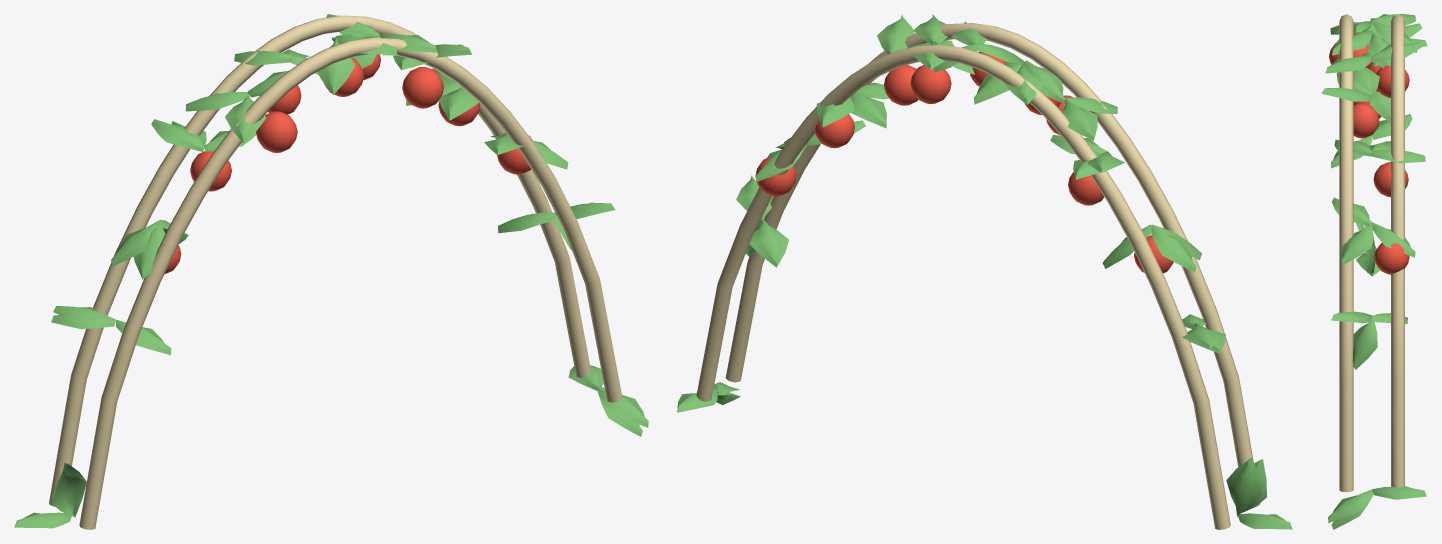
File: tomatenbogen.glb
3 views of the same model, side by side, from view 1: azimuth 30°, elevation 25°; view 2: azimuth 150°, elevation 25°; view 3: azimuth 270°, elevation 25° (orthographic). The views are drawn at different scales.
Visible parts, largest first — view 1: tomatenbogen_lod0; view 2: tomatenbogen_lod0; view 3: tomatenbogen_lod0.
Part boxes in pixels (bbox=[...]): tomatenbogen_lod0: bbox=[14, 14, 648, 529]; tomatenbogen_lod0: bbox=[677, 14, 1292, 529]; tomatenbogen_lod0: bbox=[1321, 14, 1427, 529].
Size of what is drawn, in the model's own units: 18.56 by 13.31 by 3.31.
